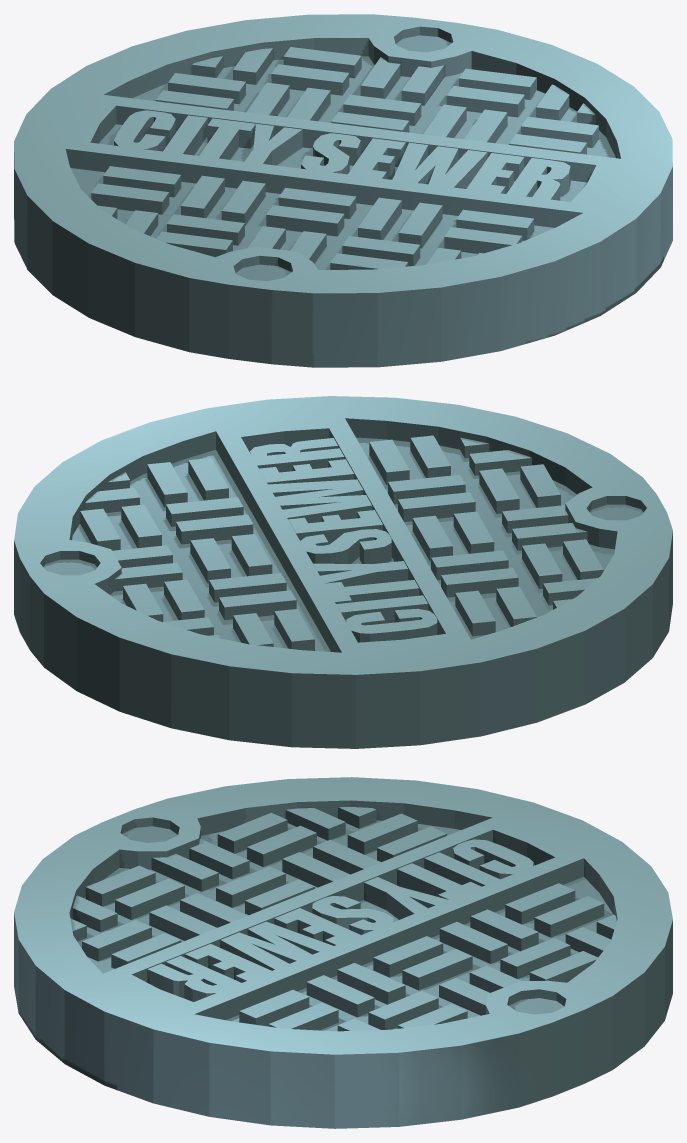
Rendered from manhole.obj.
3 renders of one model, top to bottom at view 1: azimuth 30°, elevation 25°; view 2: azimuth 150°, elevation 25°; view 3: azimuth 270°, elevation 25°, orthographic.
Parts seen in each view (by area): view 1: manhole; view 2: manhole; view 3: manhole.
Boxes of the visible parts, <box> form: manhole: <box>14,14,672,367</box>; manhole: <box>14,396,672,748</box>; manhole: <box>14,777,672,1128</box>.
Bounding box in the file's own units: 0.5018 × 0.0629 × 0.5017.
Materials: 1 (1 with a texture image).
